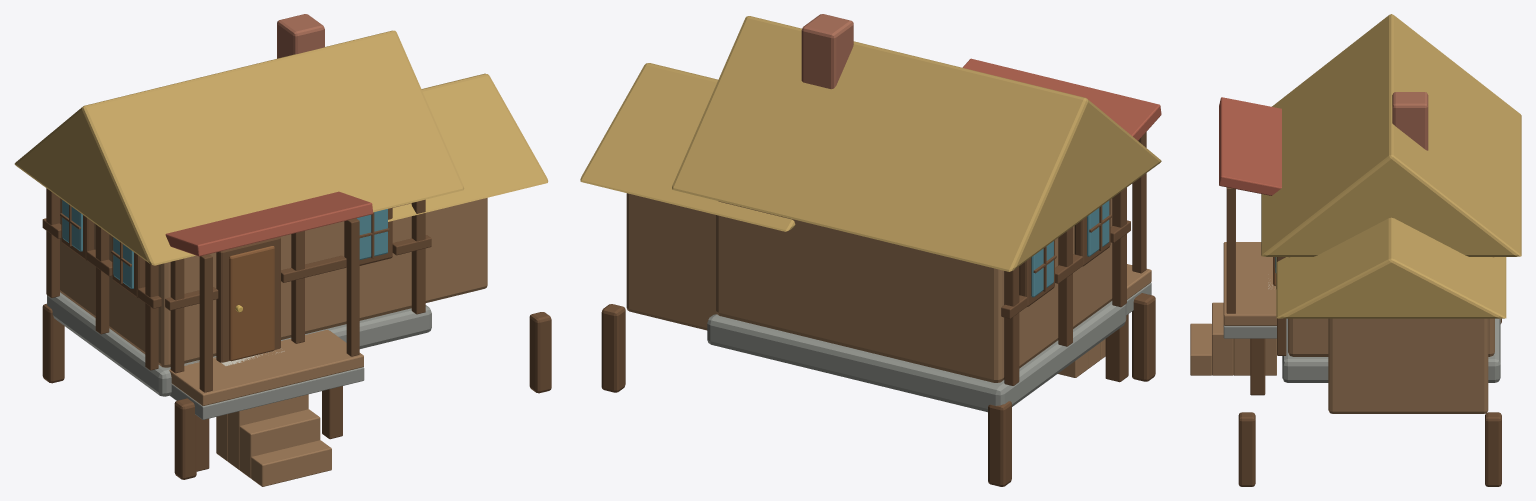
Rendered from wetland-cottage-2.glb.
The picture shows the model from 3 angles, left to right: view 1: azimuth 30°, elevation 25°; view 2: azimuth 150°, elevation 25°; view 3: azimuth 270°, elevation 25°; orthographic projection. The views are drawn at different scales.
Visible parts, largest first — view 1: Golden thatch, Aged oak, Dark beams, Foundation stone, Clay tiles, Door oak, Blue glass, Chimney brick; view 2: Golden thatch, Aged oak, Dark beams, Foundation stone, Clay tiles, Chimney brick, Blue glass; view 3: Golden thatch, Aged oak, Clay tiles, Dark beams, Foundation stone, Chimney brick.
Boxes of the visible parts, <box> form: Golden thatch: <box>14,30,548,265</box>; Aged oak: <box>60,198,487,486</box>; Dark beams: <box>42,188,551,479</box>; Foundation stone: <box>47,292,431,419</box>; Clay tiles: <box>165,191,373,256</box>; Door oak: <box>229,246,274,361</box>; Blue glass: <box>62,200,387,288</box>; Chimney brick: <box>277,14,324,58</box>; Golden thatch: <box>580,16,1161,271</box>; Aged oak: <box>626,193,1151,382</box>; Dark beams: <box>601,132,1155,486</box>; Foundation stone: <box>707,283,1151,412</box>; Clay tiles: <box>962,58,1161,140</box>; Chimney brick: <box>801,14,853,89</box>; Blue glass: <box>1031,200,1109,297</box>; Golden thatch: <box>1261,14,1521,318</box>; Aged oak: <box>1190,242,1494,413</box>; Clay tiles: <box>1219,97,1281,195</box>; Dark beams: <box>1226,187,1501,486</box>; Foundation stone: <box>1223,318,1500,382</box>; Chimney brick: <box>1392,92,1428,150</box>.
Size of the model in its own units: 4.66 by 3.72 by 3.52.
